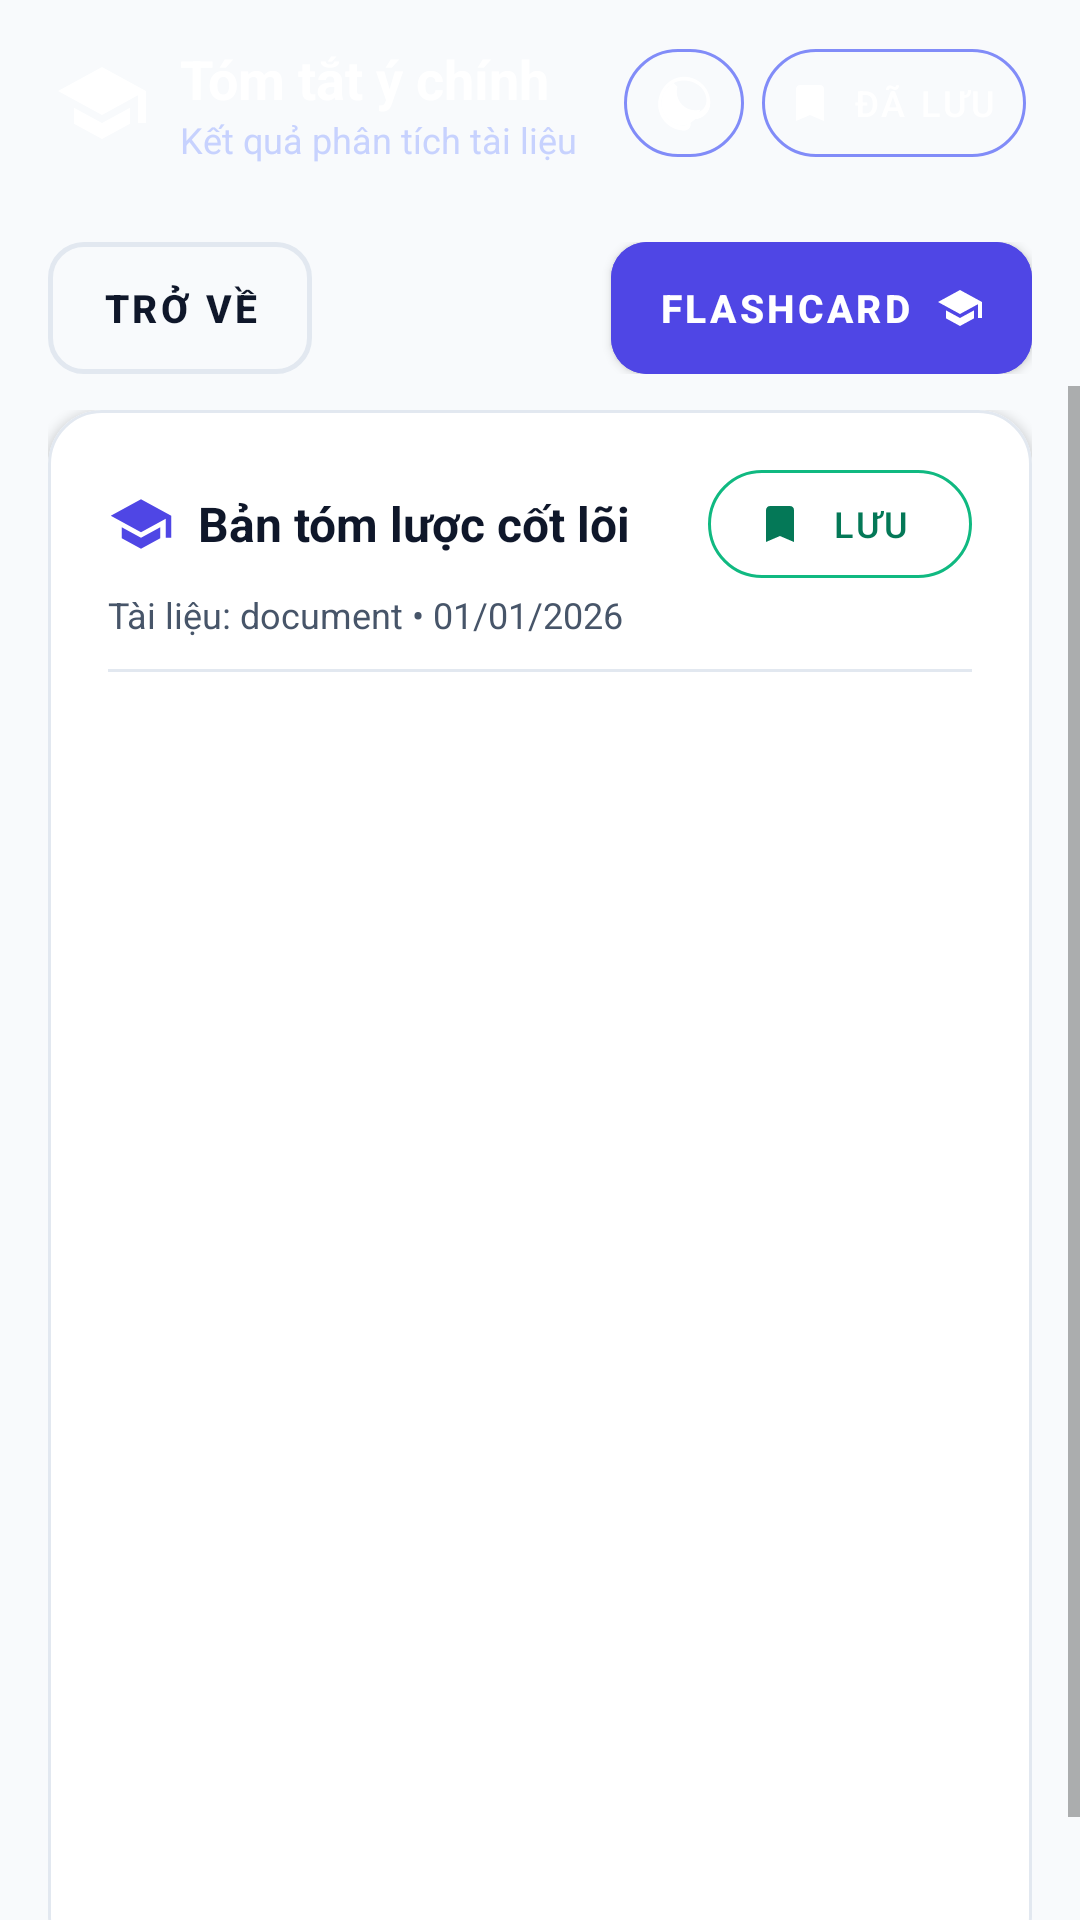

Screen size 1080px×1920px. Icon name, then its center in pixels as [x,y]:
Chuyển chế độ sáng tối: [684,103]
